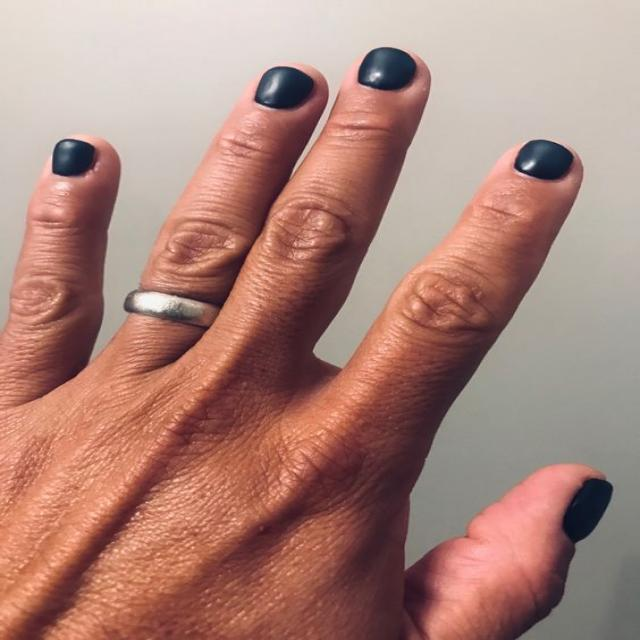Fingernail: (563, 478, 613, 543), (358, 47, 417, 91), (255, 66, 314, 109), (513, 140, 575, 180), (52, 139, 95, 176)
